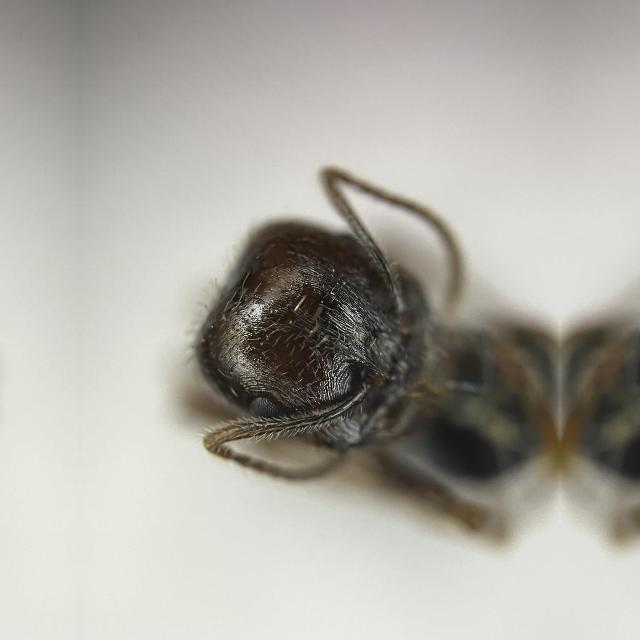Messor: (171, 198, 559, 546), (561, 198, 640, 546)
